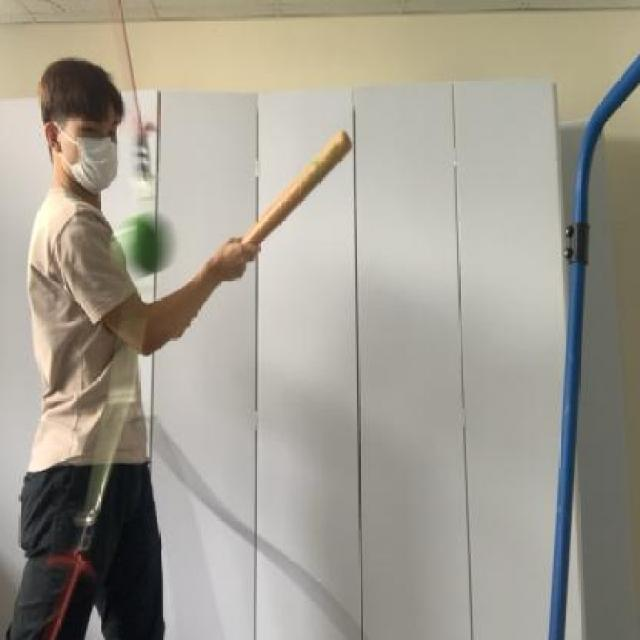baseball: (89, 201, 191, 293)
